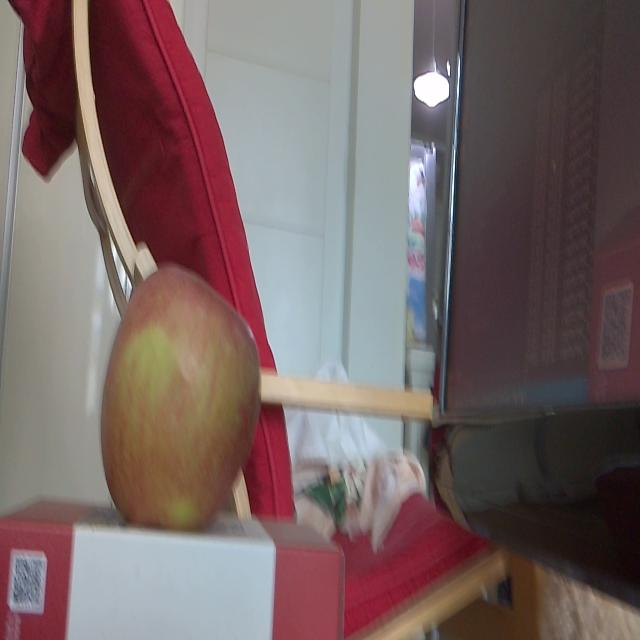apple: (99, 265, 265, 535)
